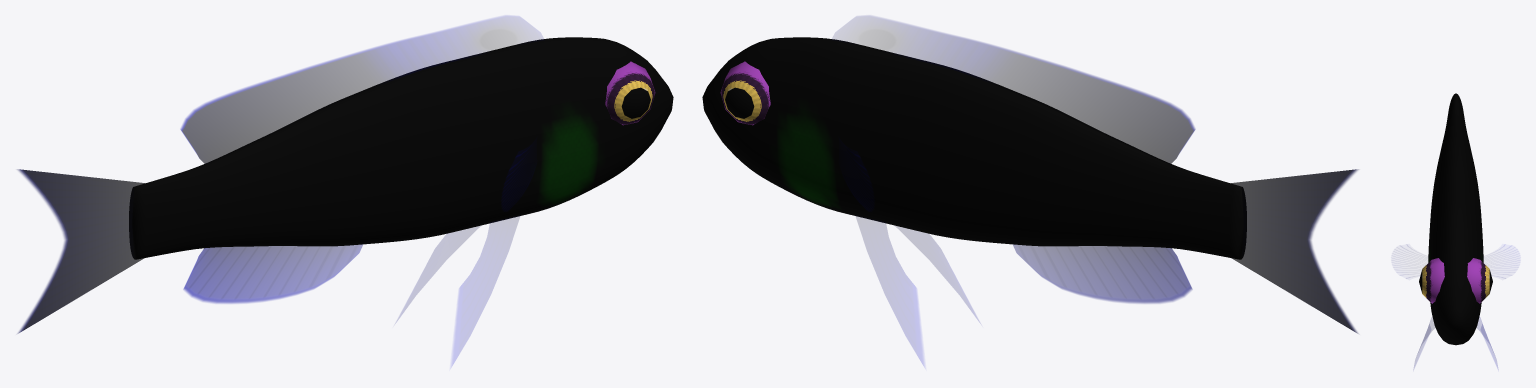
Rendered from royal_gramma.glb.
3 views of the same model, side by side, from view 1: azimuth 30°, elevation 25°; view 2: azimuth 150°, elevation 25°; view 3: azimuth 270°, elevation 25° (orthographic). The views are drawn at different scales.
Parts seen in each view (by area): view 1: Body, FinDorsal, FinCaudal, FinAnal, FinPelvicR, EyeR, FinPelvicL; view 2: Body, FinDorsal, FinCaudal, FinAnal, FinPelvicL, EyeL, FinPelvicR; view 3: Body, EyeL, EyeR, FinPelvicR, FinPelvicL.
Boxes of the visible parts, bbox=[...] form: Body: bbox=[129, 37, 673, 259]; FinDorsal: bbox=[180, 16, 543, 164]; FinCaudal: bbox=[17, 169, 145, 333]; FinAnal: bbox=[183, 244, 362, 303]; FinPelvicR: bbox=[452, 216, 519, 365]; EyeR: bbox=[605, 61, 655, 125]; FinPelvicL: bbox=[397, 226, 479, 320]; Body: bbox=[702, 37, 1246, 259]; FinDorsal: bbox=[832, 16, 1195, 164]; FinCaudal: bbox=[1230, 169, 1358, 333]; FinAnal: bbox=[1013, 244, 1192, 303]; FinPelvicL: bbox=[856, 216, 923, 365]; EyeL: bbox=[720, 61, 770, 125]; FinPelvicR: bbox=[896, 226, 978, 320]; Body: bbox=[1428, 93, 1483, 345]; EyeL: bbox=[1467, 258, 1492, 303]; EyeR: bbox=[1419, 258, 1444, 303]; FinPelvicR: bbox=[1414, 317, 1434, 367]; FinPelvicL: bbox=[1477, 318, 1497, 367].
Bounding box in the file's own units: 1 × 0.4613 × 0.2304.
Materials: 4 (3 with a texture image).
